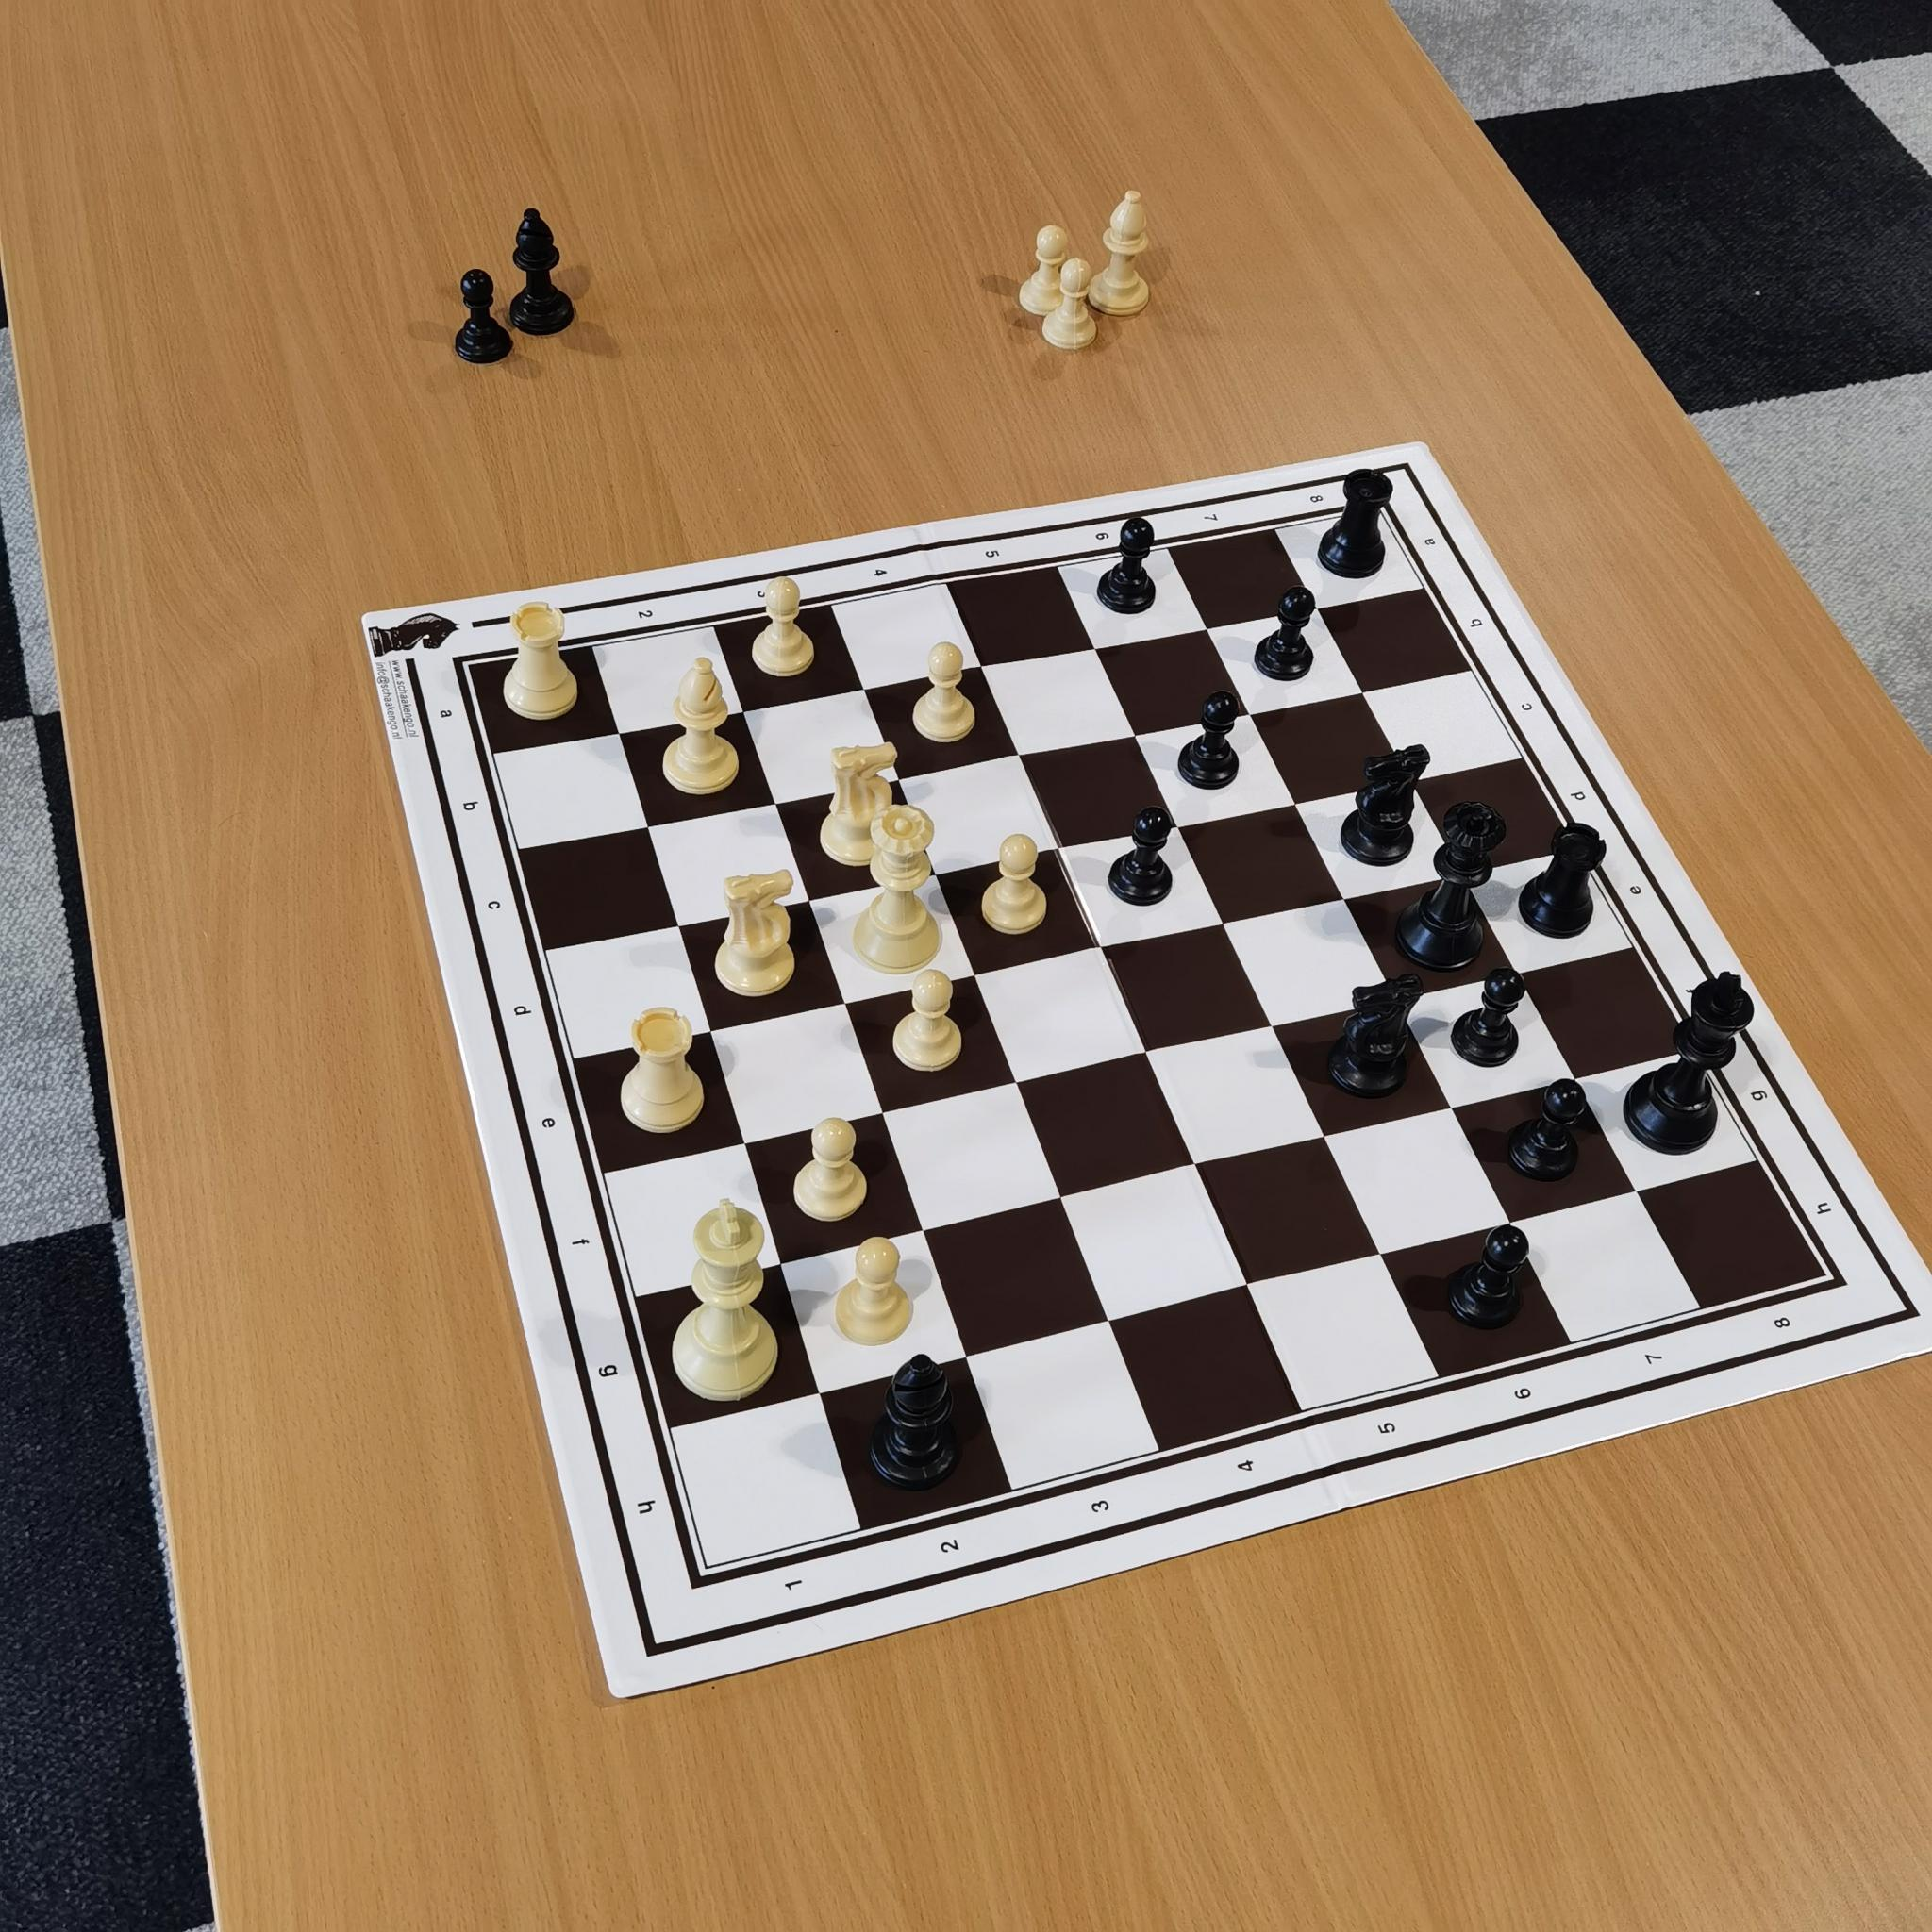corners: (676, 1562, 731, 1615), (441, 646, 495, 690), (1815, 1270, 1861, 1313), (1362, 488, 1403, 525)
eight: (1764, 1297, 1808, 1346), (1304, 487, 1334, 518)
one: (775, 1562, 830, 1608), (511, 612, 548, 655)
